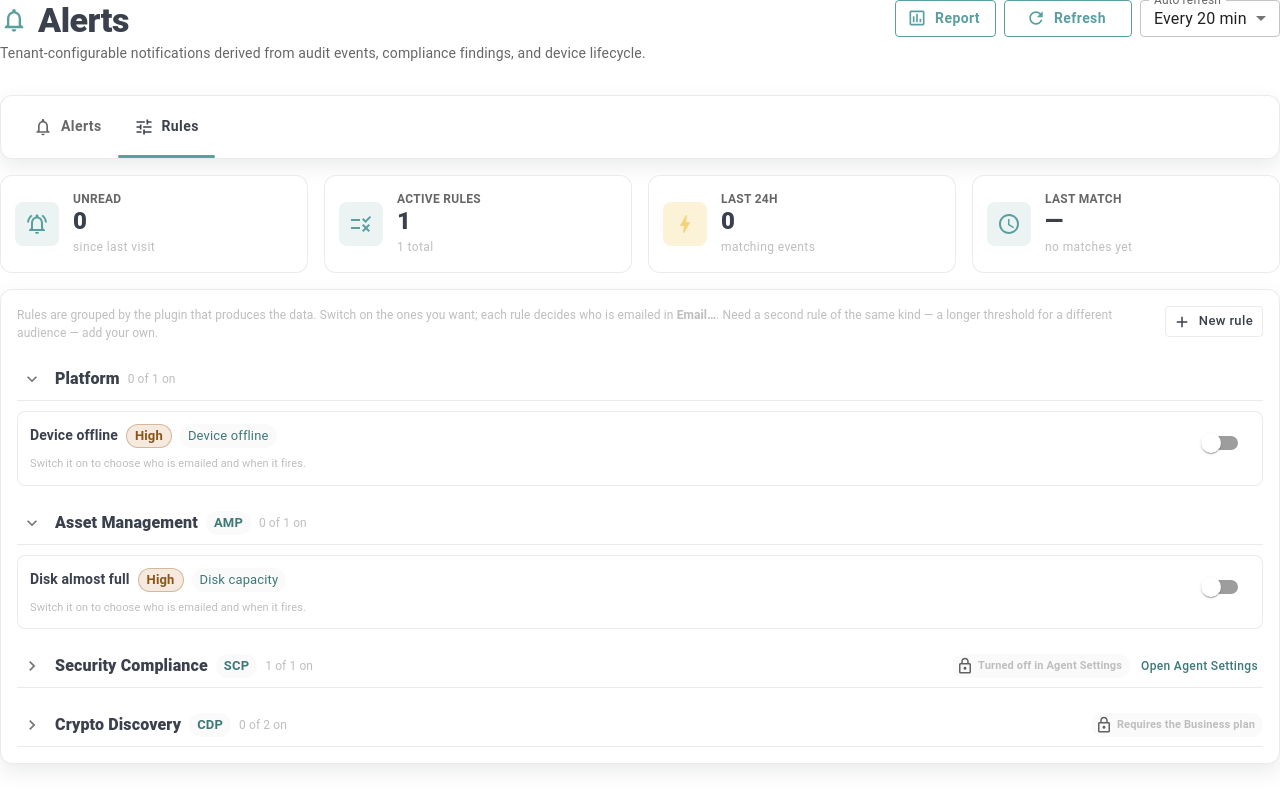
Scenario: Alerts — reglas agrupadas por plugin › ⭐ lo que el editor no toca se dice, no se esconde
# SCP está apagado: el grupo nace plegado.
Click the button named "expand security compliance".
click(32, 666)  # box left=17, top=651, right=47, bottom=681
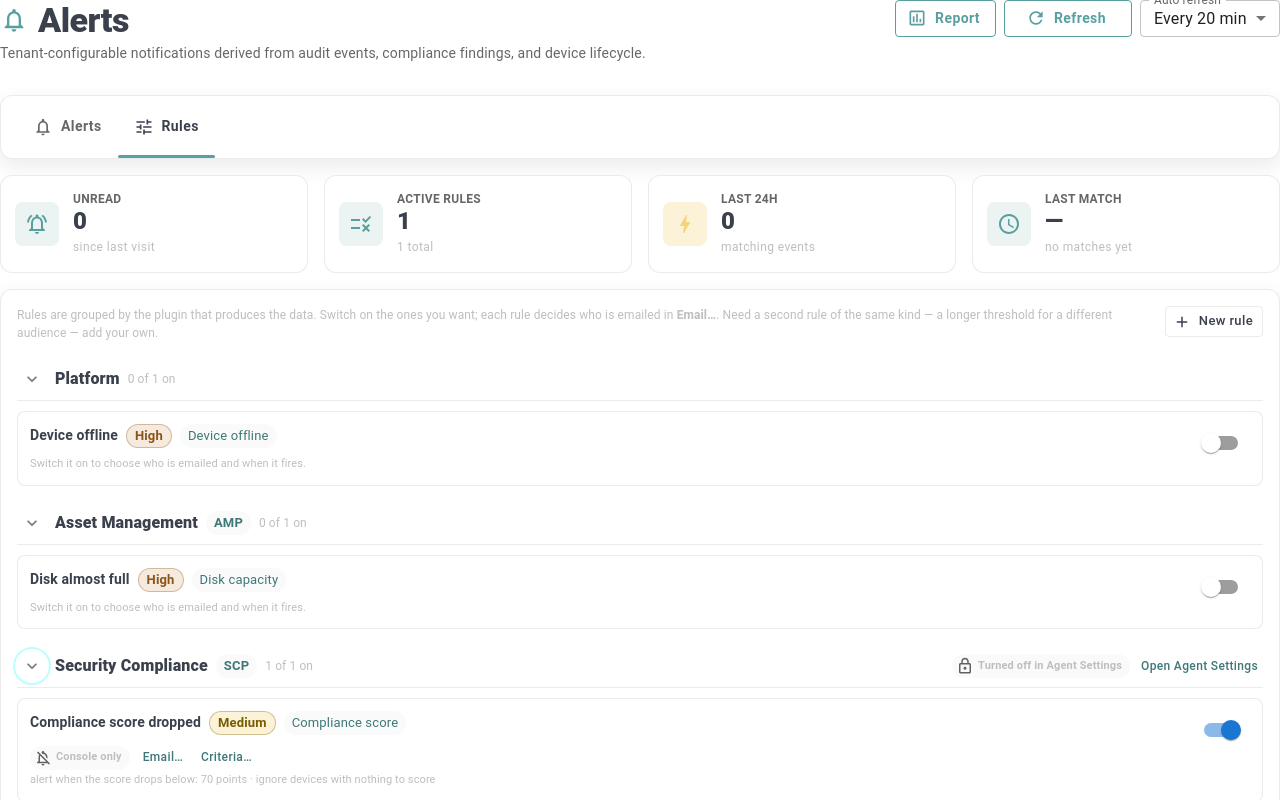
Click the button "Criteria…".
click(227, 758)  # box left=196, top=743, right=257, bottom=772
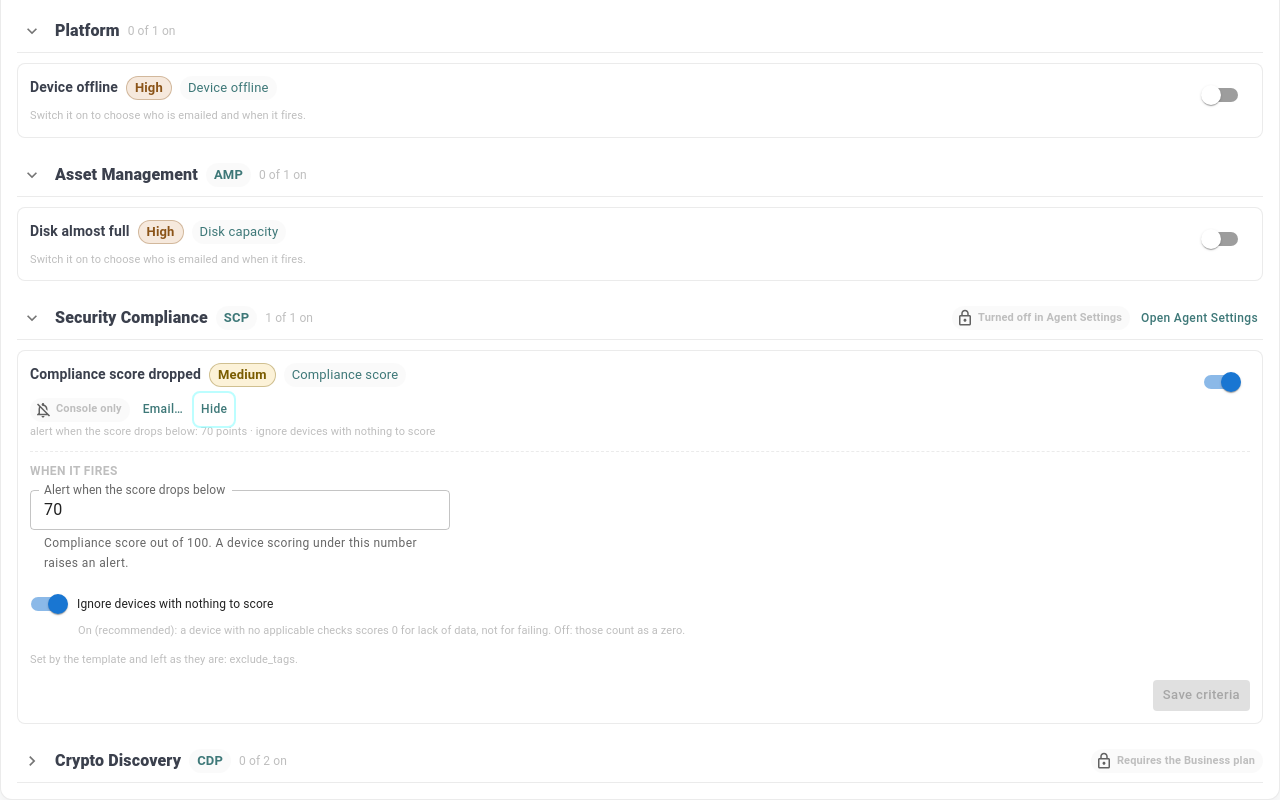
Result: the number field labelled "Alert when the score drops below" holds "70" at left=30, top=490, right=450, bottom=530
Result: the text with test id "rule-criteria-untouched" shows "exclude_tags" at left=230, top=653, right=295, bottom=666
